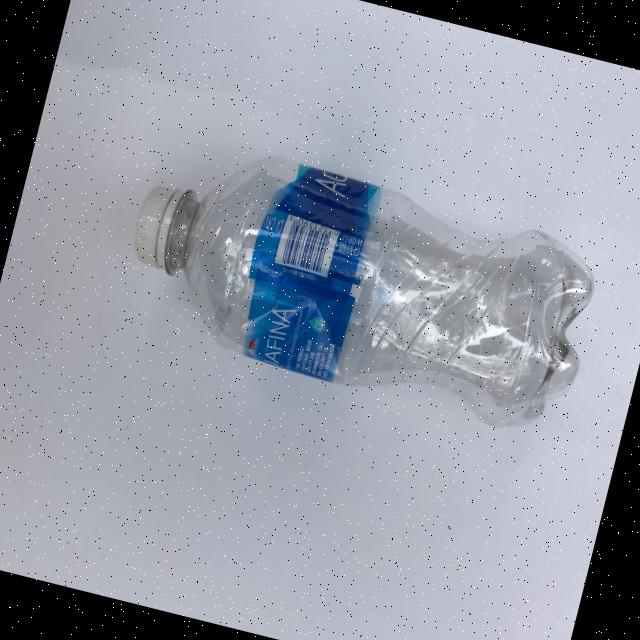plastic: (109, 125, 611, 444)
